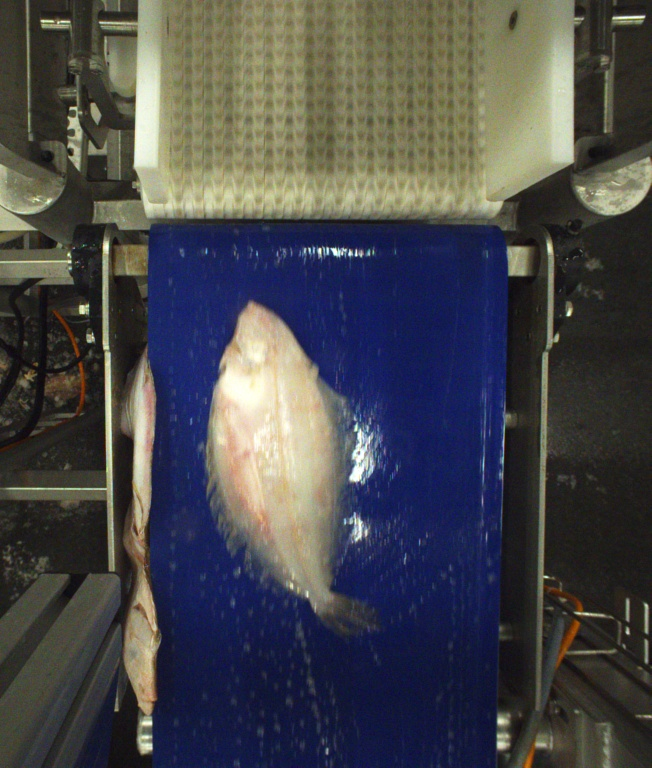WIT: (206, 303, 374, 640)
